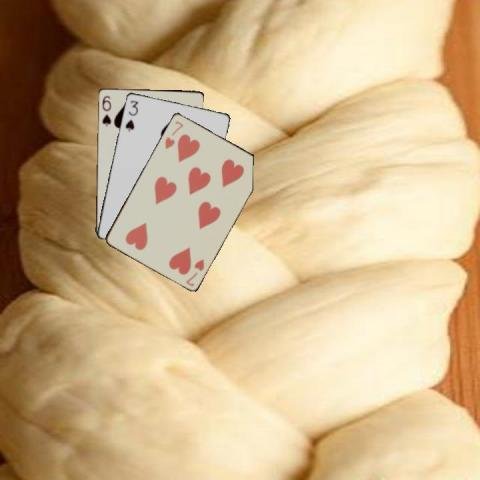3s: (122, 97, 139, 133)
6s: (99, 93, 112, 127)
7h: (162, 117, 185, 150), (183, 256, 205, 288)
